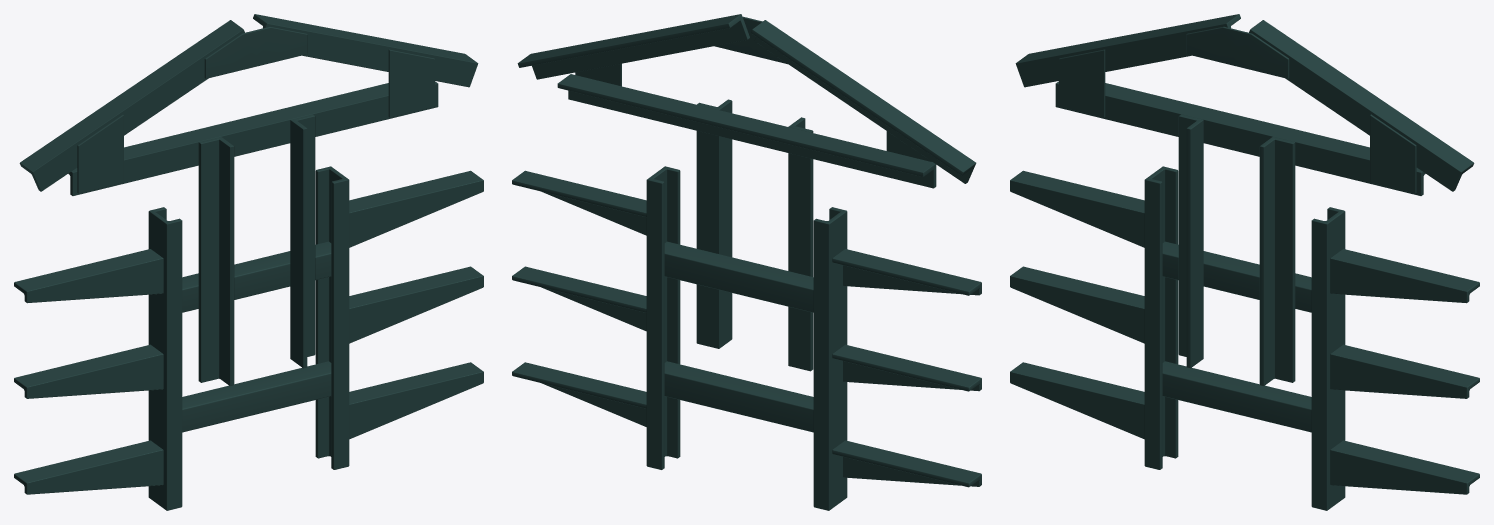
File: SM_CableSupport.fbx
3 views of the same model, side by side, from view 1: azimuth 30°, elevation 25°; view 2: azimuth 150°, elevation 25°; view 3: azimuth 330°, elevation 25° (orthographic).
Parts seen in each view (by area): view 1: SM_CableSupport_LOD0; view 2: SM_CableSupport_LOD0; view 3: SM_CableSupport_LOD0.
Boxes of the visible parts, bbox=[...] form: SM_CableSupport_LOD0: bbox=[14, 14, 483, 510]; SM_CableSupport_LOD0: bbox=[512, 14, 981, 510]; SM_CableSupport_LOD0: bbox=[1010, 14, 1479, 510].
Size of what is drawn, in the model's own units: 100 by 96.21 by 11.
